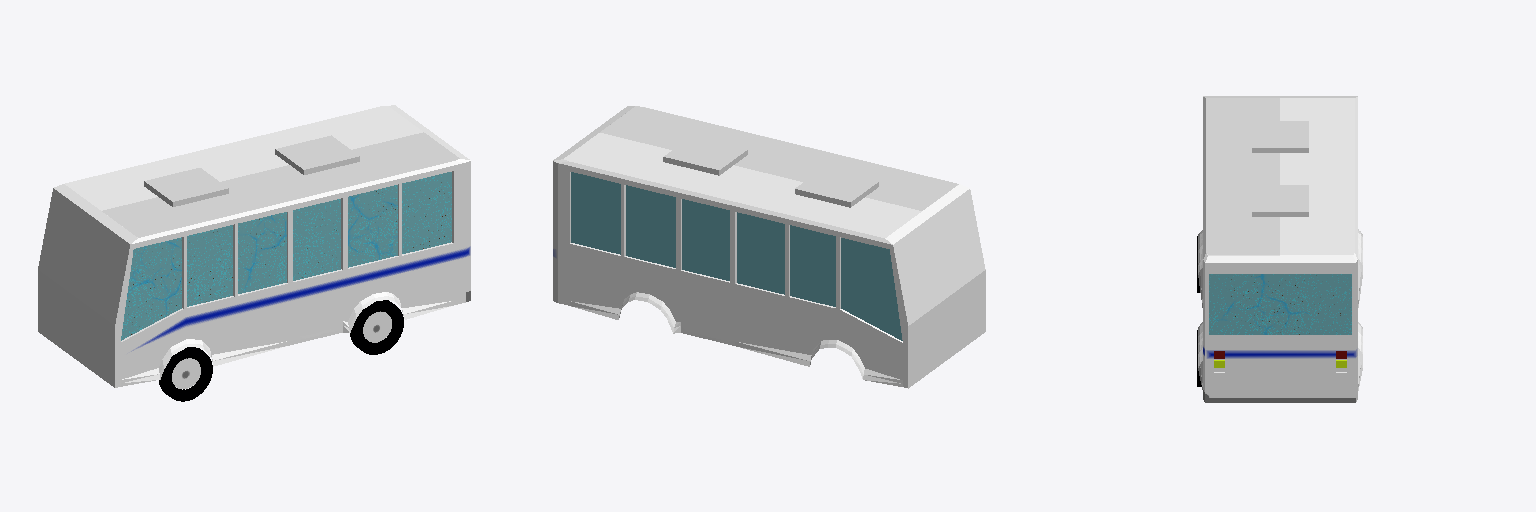
3 views of the same model, side by side, from view 1: azimuth 30°, elevation 25°; view 2: azimuth 150°, elevation 25°; view 3: azimuth 270°, elevation 25° (orthographic).
Parts seen in each view (by area): view 1: Cube.008_Cube.009, Cube.007_Cube.008, Circle.001, Cube.006_Cube.007; view 2: Cube.008_Cube.009, Cube.007_Cube.008, Cube.006_Cube.007; view 3: Cube.008_Cube.009, Cube.007_Cube.008, Cube.006_Cube.007.
Part boxes in pixels (x1,y1,x2,y2): Cube.008_Cube.009: (38, 105, 470, 387); Cube.007_Cube.008: (121, 172, 451, 340); Circle.001: (159, 300, 403, 401); Cube.006_Cube.007: (144, 135, 359, 206); Cube.008_Cube.009: (553, 106, 985, 388); Cube.007_Cube.008: (571, 172, 902, 340); Cube.006_Cube.007: (663, 136, 878, 207); Cube.008_Cube.009: (1198, 96, 1362, 402); Cube.007_Cube.008: (1209, 274, 1351, 334); Cube.006_Cube.007: (1252, 121, 1308, 216).
Bounding box in the file's own units: 5.36 × 2.51 × 2.15.
1 materials, 1 textured.